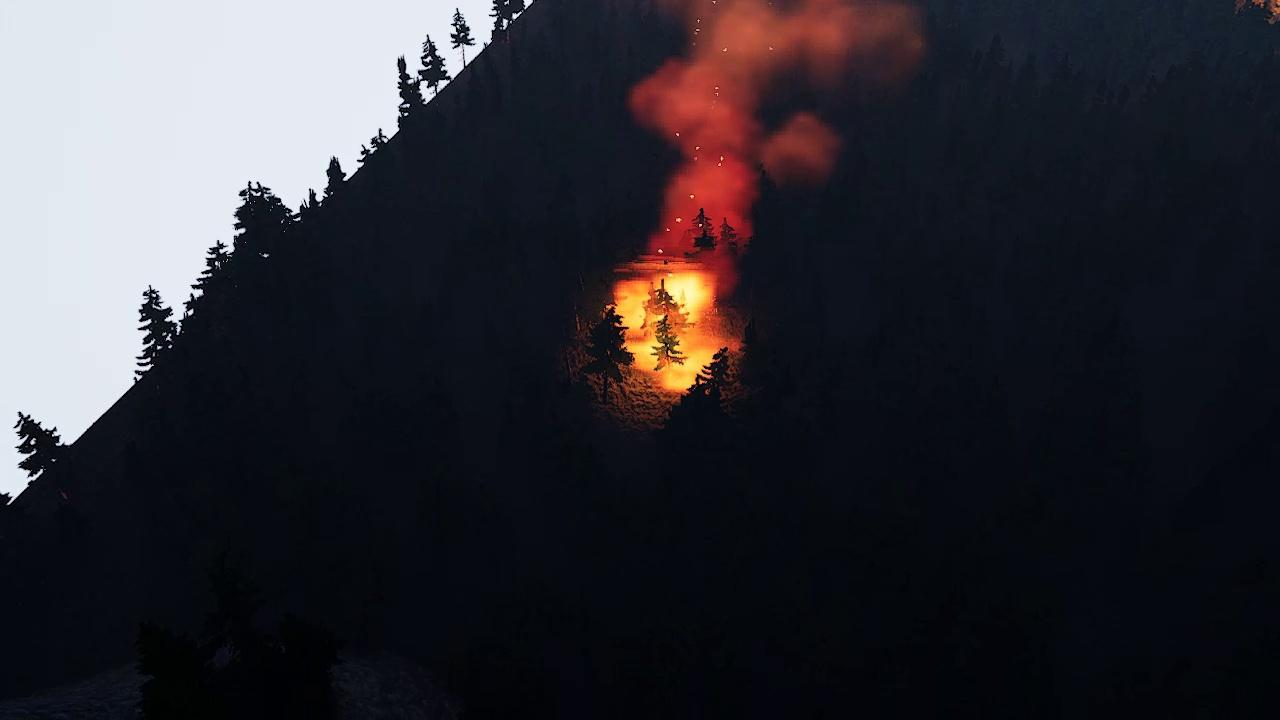fire: (614, 261, 737, 391)
smoke: (618, 0, 909, 246)
